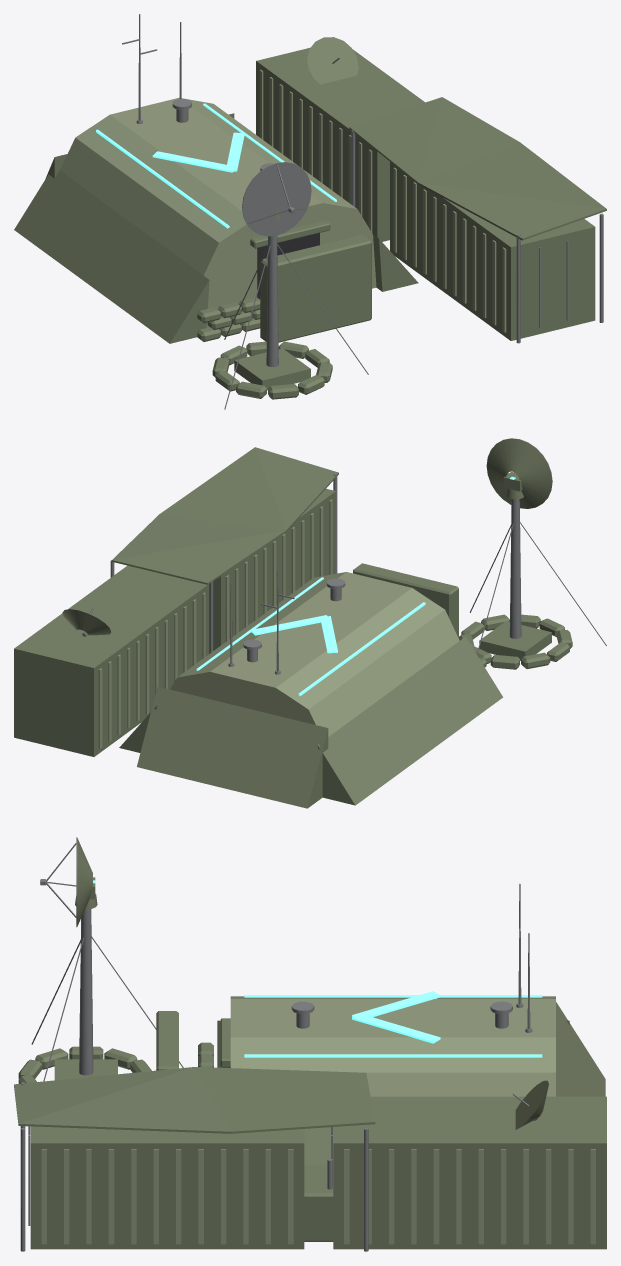
File: hvt_blue.glb
3 renders of one model, top to bottom at view 1: azimuth 30°, elevation 25°; view 2: azimuth 150°, elevation 25°; view 3: azimuth 270°, elevation 25°, orthographic. The views are drawn at different scales.
Parts seen in each view (by area): view 1: body, gun; view 2: body, gun; view 3: body, gun.
Boxes of the visible parts, x1,y1,x2,y2 form: body: (14, 14, 606, 409); gun: (242, 162, 311, 236); body: (14, 447, 606, 808); gun: (486, 438, 552, 508); body: (14, 883, 606, 1251); gun: (40, 837, 92, 927).
Size of the model in its own units: 11.09 by 5.95 by 13.13.
